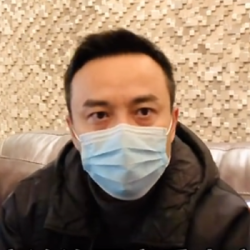mask: (64, 118, 176, 204)
